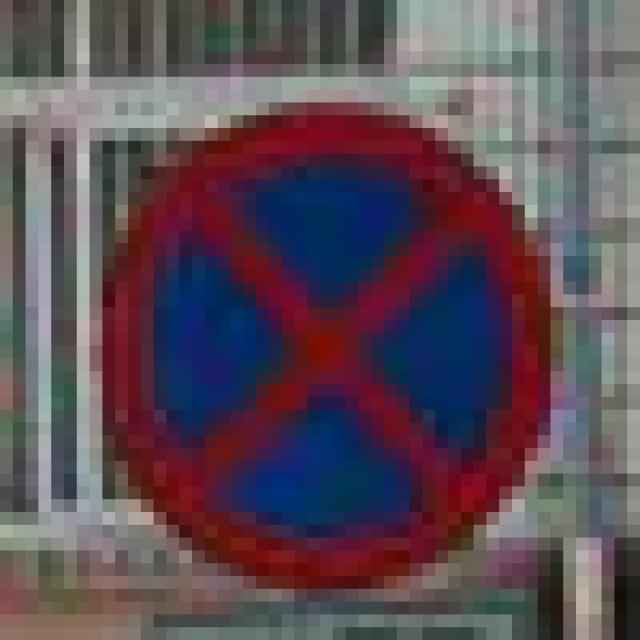no_parking: (90, 90, 550, 576)
